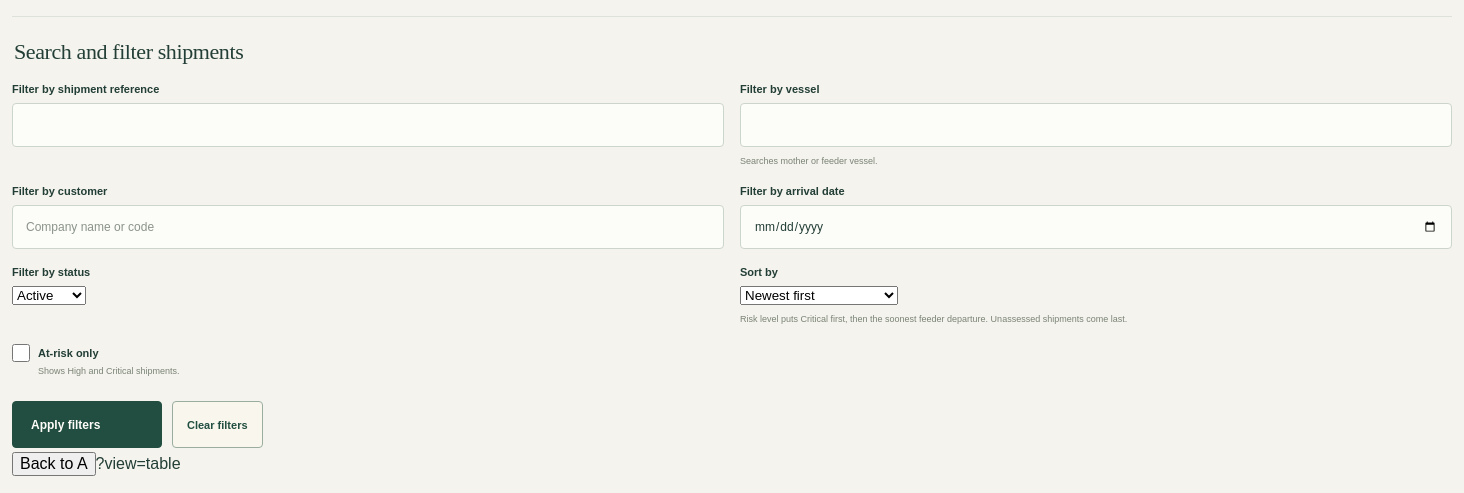
Test case: ShipmentFilterControls › offers newest and risk-level sorts and stores the choice in the URL
The image size is (1464, 493).
Select "Risk level (Critical first)" in the dropdown labelled "Sort by". click: (819, 296)
box: [740, 286, 898, 305]
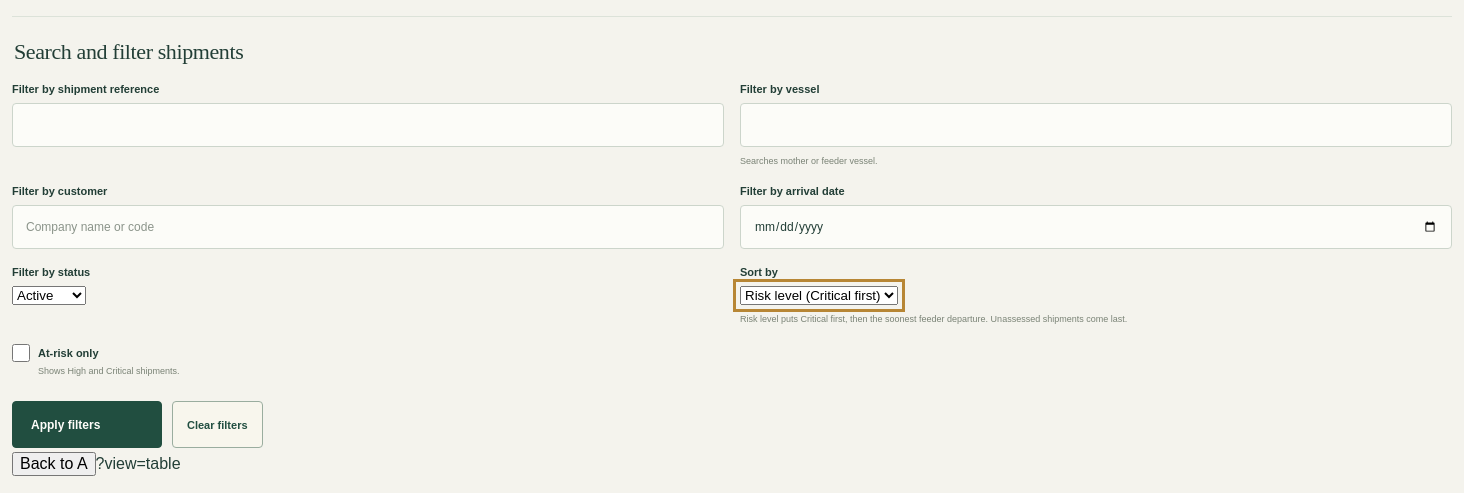
Click the button "Apply filters". click: click(87, 425)
box: [12, 401, 162, 448]
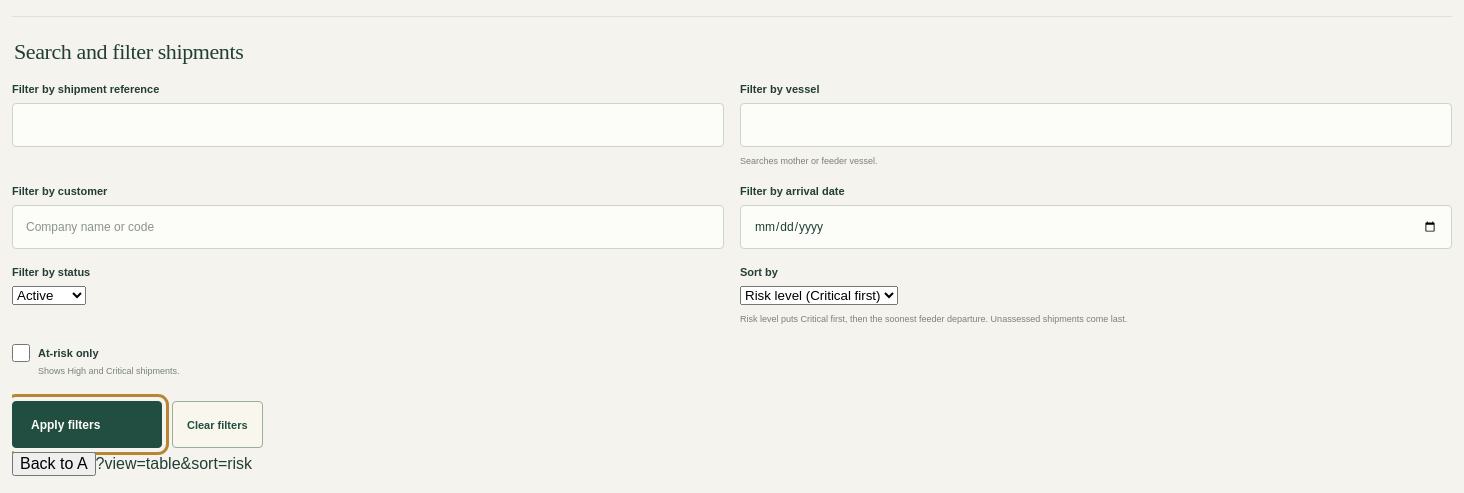
expect the text with test id "location" reads "?view=table&sort=risk": met, box [96, 455, 252, 472]
